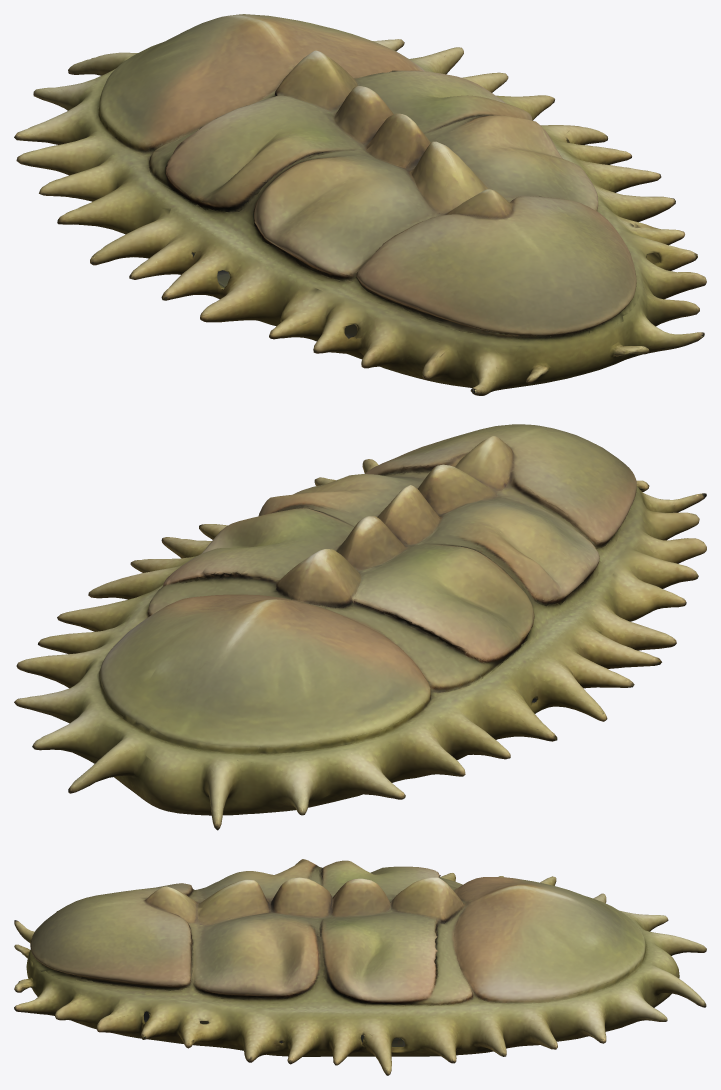
3 views of the same model, one above another, from view 1: azimuth 30°, elevation 25°; view 2: azimuth 150°, elevation 25°; view 3: azimuth 270°, elevation 25° (orthographic). The views are drawn at different scales.
Visible parts, largest first — view 1: world; view 2: world; view 3: world.
Part boxes in pixels (x1,y1,x2,y2): world: (14, 14, 706, 395); world: (14, 424, 706, 830); world: (14, 859, 706, 1075).
Bounding box in the file's own units: 0.0434 × 0.0156 × 0.065.
1 material, 1 textured.
